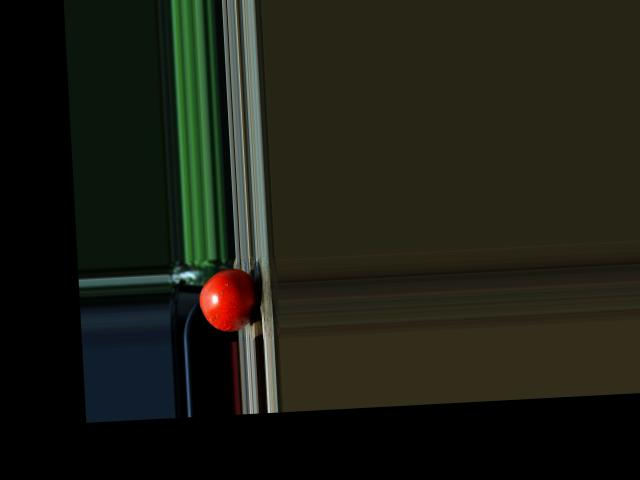tomato: (197, 266, 257, 332)
